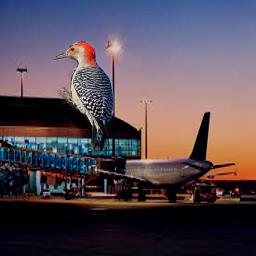Woodpecker: (52, 41, 114, 151)
